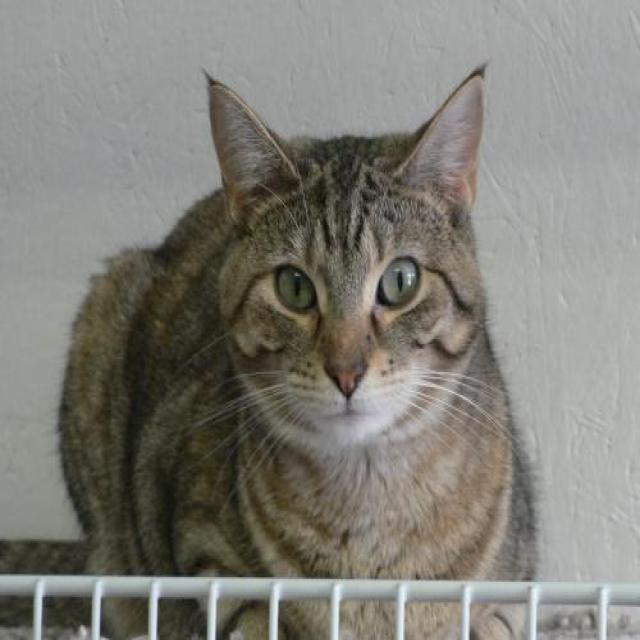Cats: (0, 59, 543, 638)
